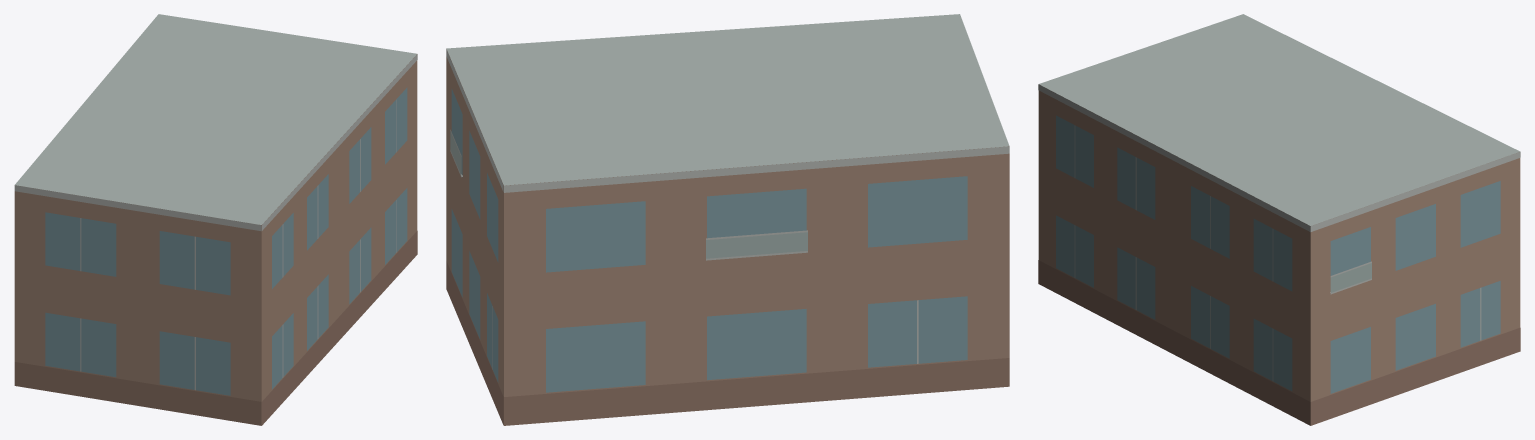
The model's file is survey-upis-32840003.glb.
The picture shows the model from 3 angles, left to right: view 1: azimuth 30°, elevation 25°; view 2: azimuth 150°, elevation 25°; view 3: azimuth 270°, elevation 25°; orthographic projection. The views are drawn at different scales.
Visible parts, largest first — view 1: survey-upis-32840003.tmp; view 2: survey-upis-32840003.tmp; view 3: survey-upis-32840003.tmp.
Part boxes in pixels (<box>): survey-upis-32840003.tmp: <box>14,14,417,425</box>; survey-upis-32840003.tmp: <box>446,14,1009,425</box>; survey-upis-32840003.tmp: <box>1038,14,1520,425</box>.
Bounding box in the file's own units: 18.11 × 7.95 × 17.39.
